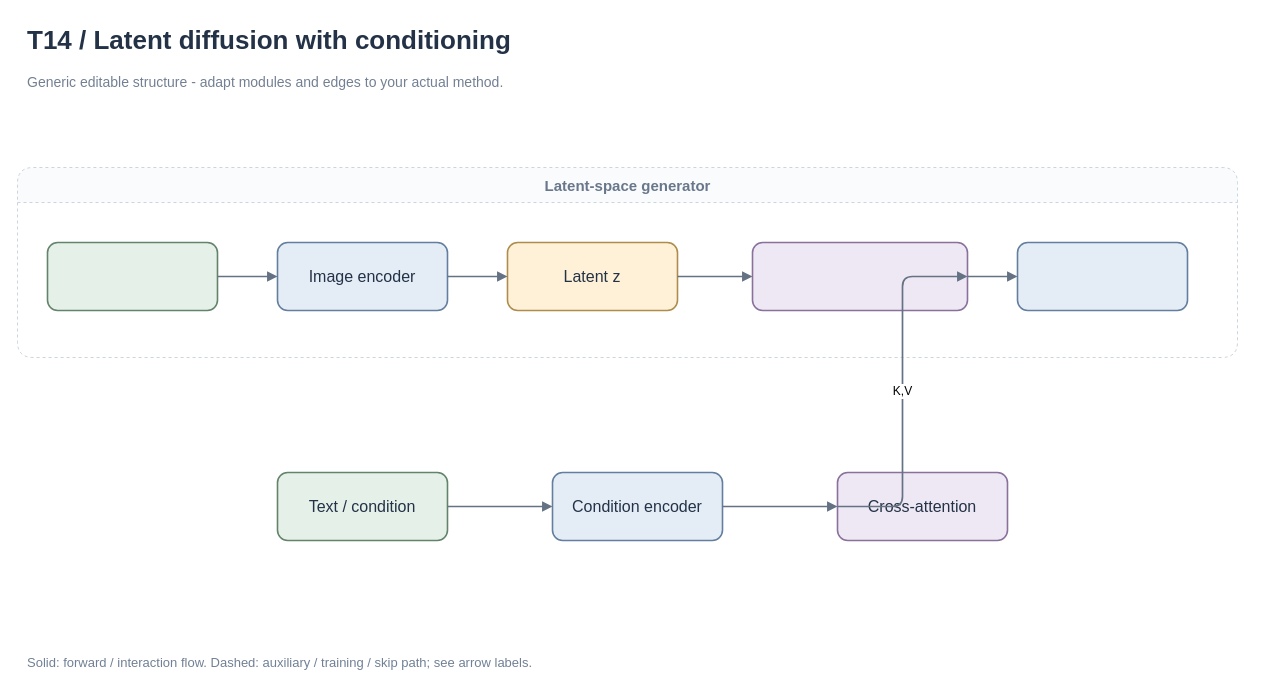
The diagram is 1273 pixels wide and 695 high, and some of its shapes have lost their labels. Here are the shapes that lost their labels. From the top down, the centre of each, then its label:
At point 132,276: "Image x".
At point 859,276: "Latent denoising U-Net".
At point 1102,276: "Image decoder".
